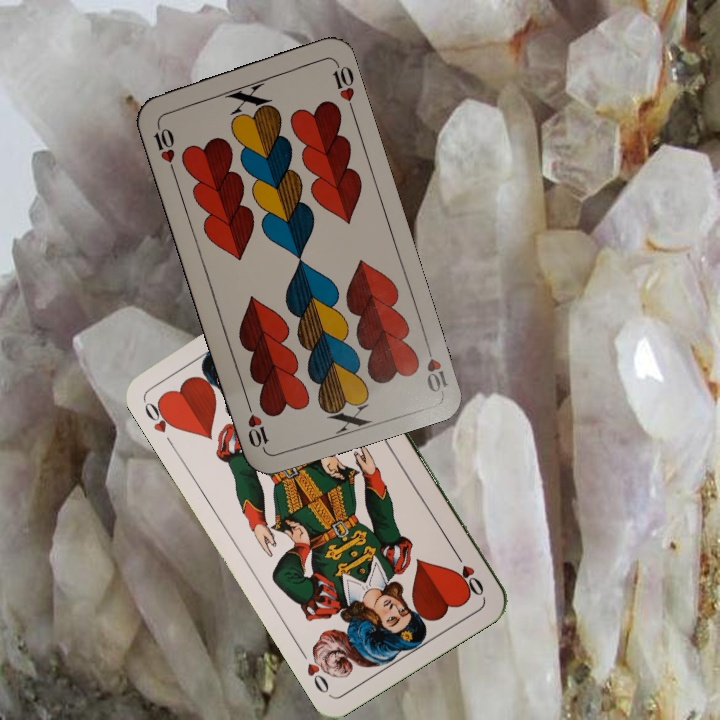H10: (421, 336, 451, 395), (149, 117, 178, 175)
HO: (140, 395, 181, 451), (449, 546, 487, 599)
